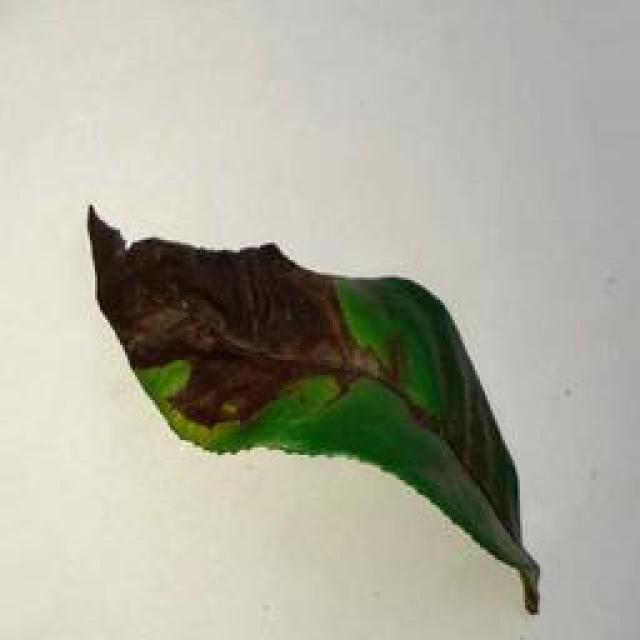Brown Blight: (60, 195, 552, 620)
